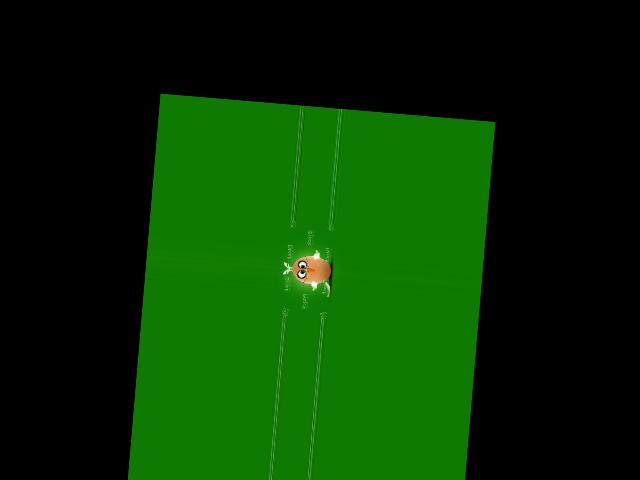egg: (291, 255, 332, 286)
